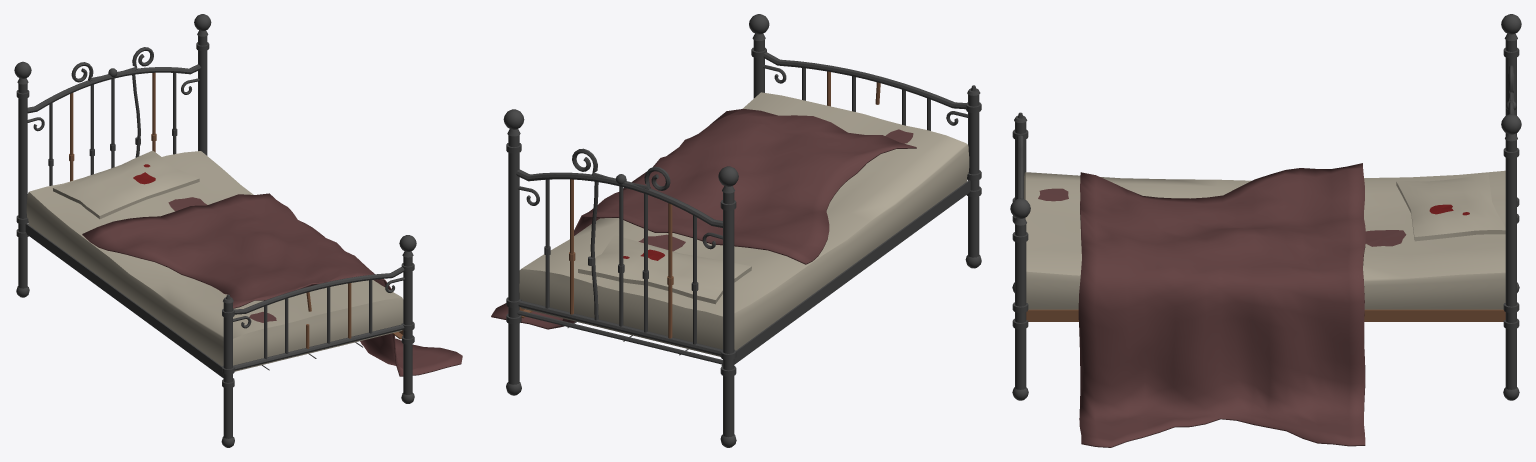
File: bed.glb
3 views of the same model, side by side, from view 1: azimuth 30°, elevation 25°; view 2: azimuth 150°, elevation 25°; view 3: azimuth 270°, elevation 25° (orthographic). The views are drawn at different scales.
Visible parts, largest first — view 1: bed_static; view 2: bed_static; view 3: bed_static.
Boxes of the visible parts, <box> form: bed_static: <box>14,14,462,447</box>; bed_static: <box>491,14,981,447</box>; bed_static: <box>1010,14,1521,447</box>.
Bounding box in the file's own units: 1.46 × 1.22 × 1.98.
